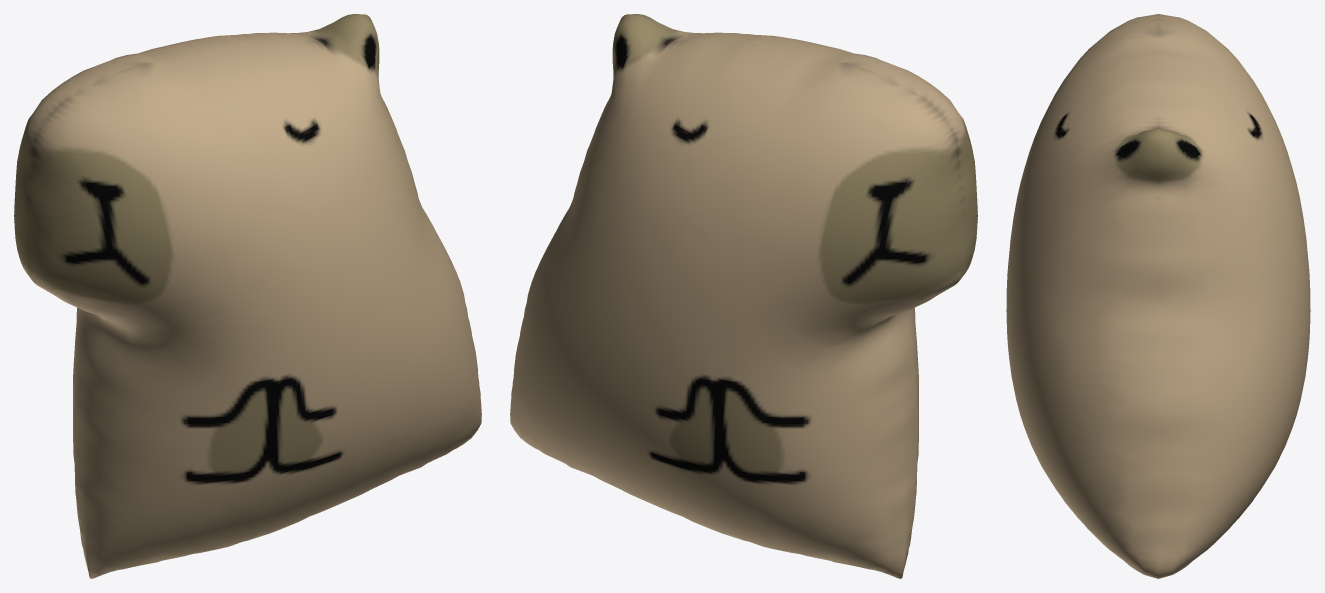
3 views of the same model, side by side, from view 1: azimuth 30°, elevation 25°; view 2: azimuth 150°, elevation 25°; view 3: azimuth 270°, elevation 25° (orthographic). The views are drawn at different scales.
Visible parts, largest first — view 1: mesh_0; view 2: mesh_0; view 3: mesh_0.
Boxes of the visible parts, box(x1,y1,x2,y2) form: mesh_0: box(14, 14, 481, 578); mesh_0: box(510, 14, 977, 578); mesh_0: box(1006, 14, 1310, 578).
Bounding box in the file's own units: 3.11 × 3.32 × 2.02.
Materials: 1 (1 with a texture image).
